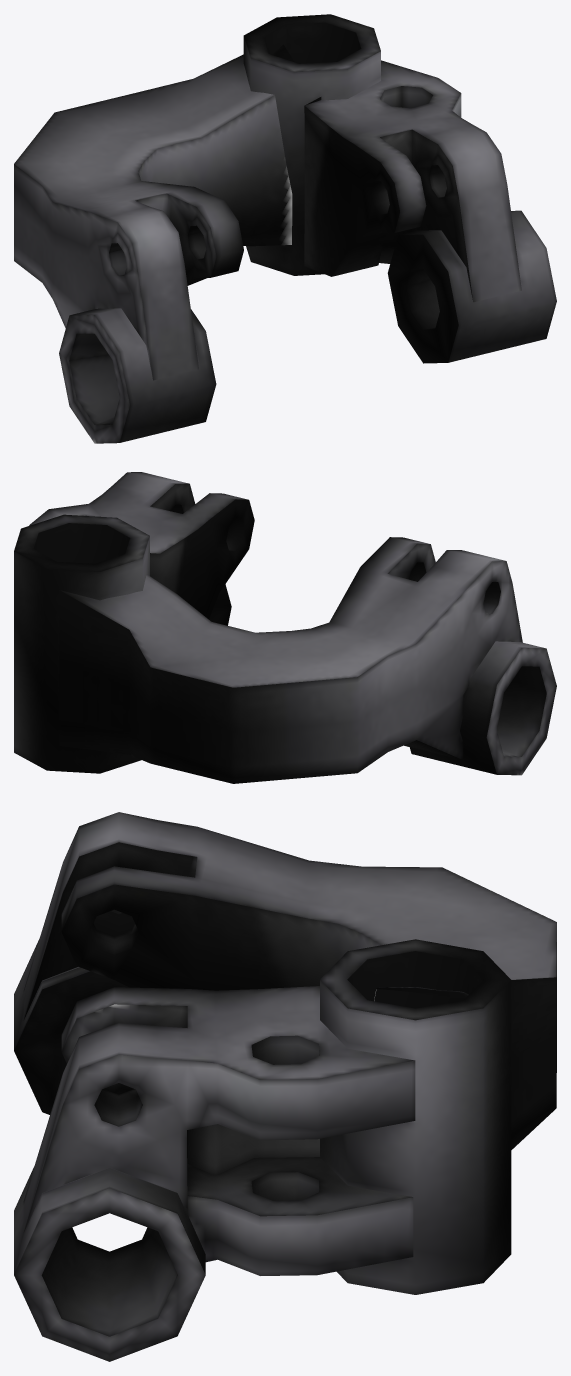
Rendered from l_lglut.obj.
The picture shows the model from 3 angles, top to bottom: view 1: azimuth 30°, elevation 25°; view 2: azimuth 150°, elevation 25°; view 3: azimuth 270°, elevation 25°; orthographic projection. The views are drawn at different scales.
Parts seen in each view (by area): view 1: l_lglut; view 2: l_lglut; view 3: l_lglut.
Boxes of the visible parts, left/top/right/bottom form: l_lglut: left=14, top=14, right=556, bottom=443; l_lglut: left=14, top=472, right=556, bottom=783; l_lglut: left=14, top=812, right=556, bottom=1361.
Size of the model in its own units: 0.1439 by 0.0762 by 0.1175.
